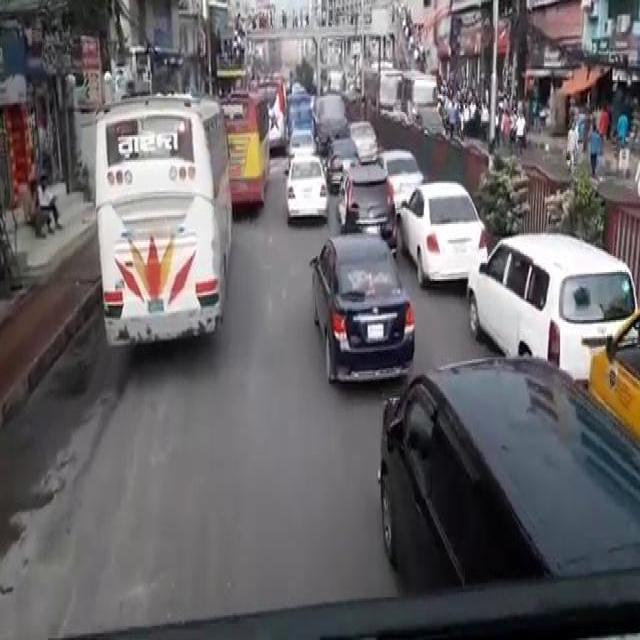Bus: (85, 87, 233, 349)
Car: (377, 307, 639, 594), (308, 228, 416, 386)
